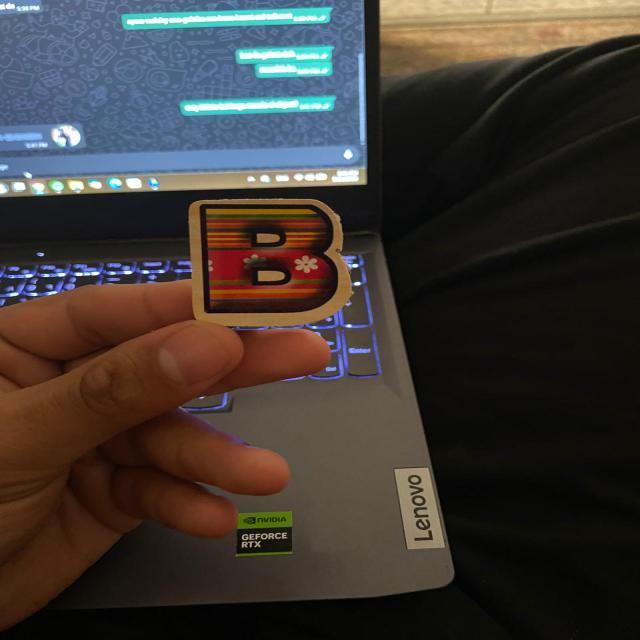B: (190, 200, 347, 325)
